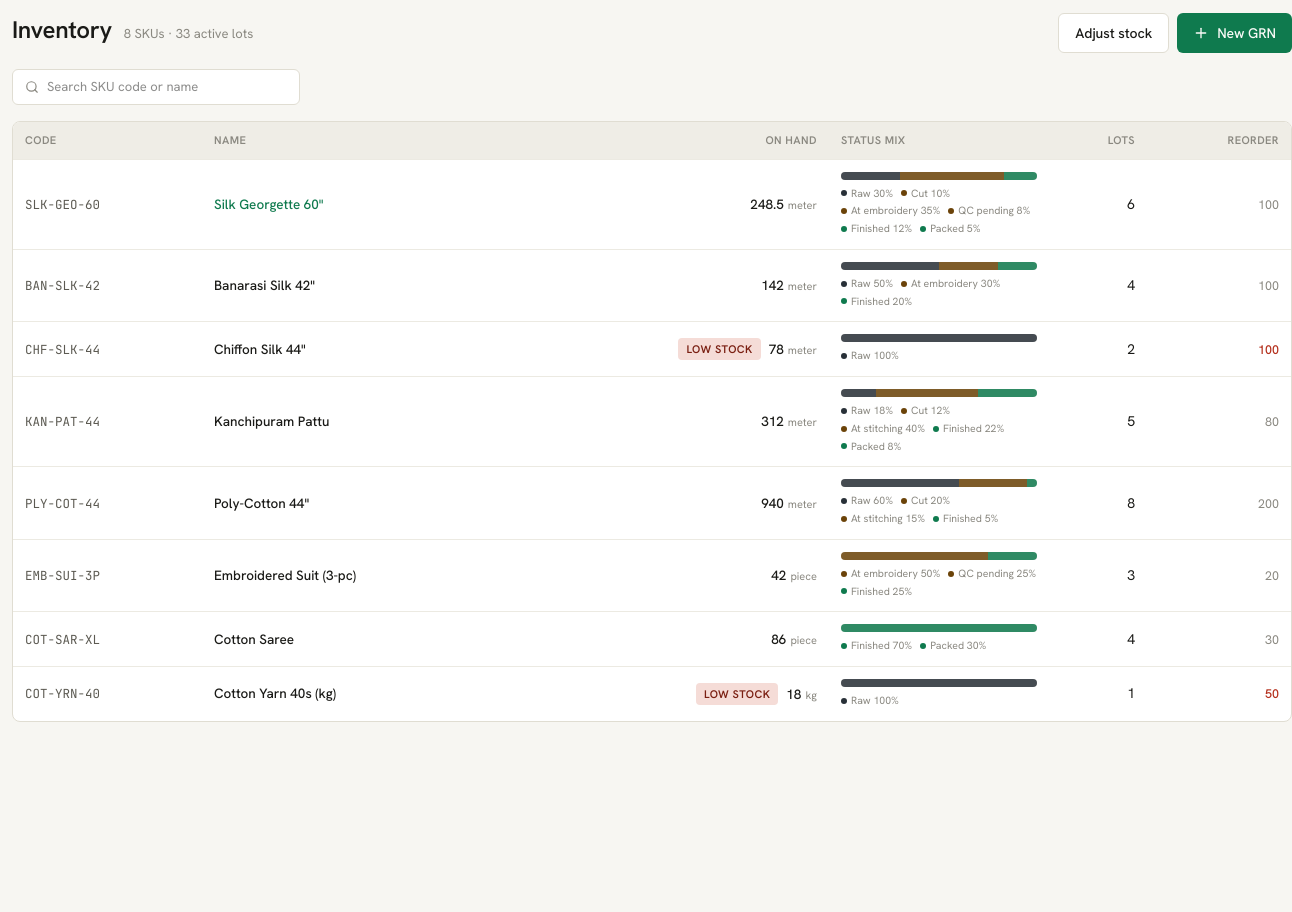
Inventory list + Lot detail › filters SKUs by search query
Expected: the link "Silk Georgette 60\"" is shown, [214,195,324,213]
Type "kanchipuram" into the search field named "search SKUs".
click(167, 87); type("kanchipuram")  # box [47,77,287,97]
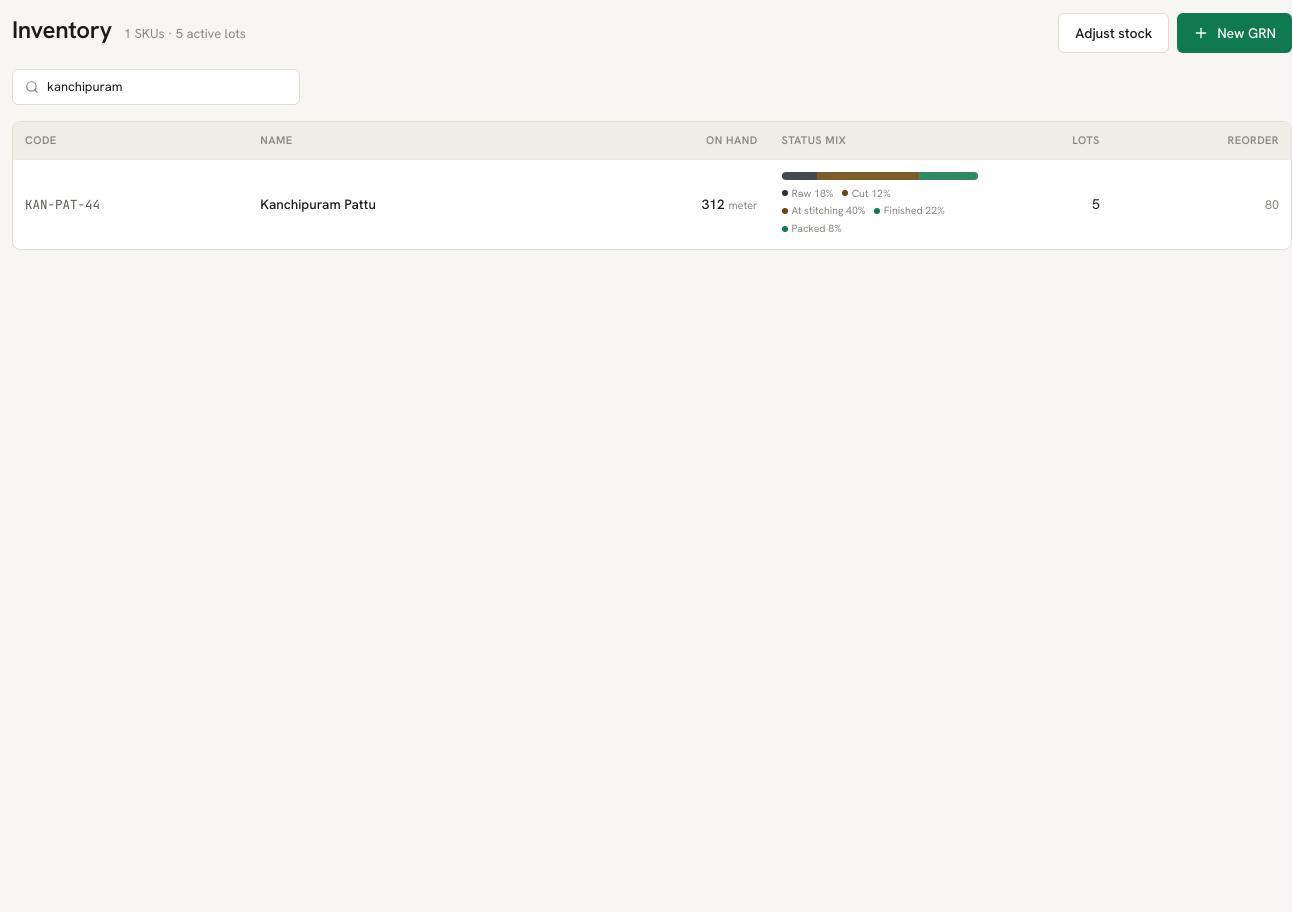
Expected: the text "Kanchipuram Pattu" is shown, [260,195,376,213]
Expected: the link "Silk Georgette 60\"" is gone
